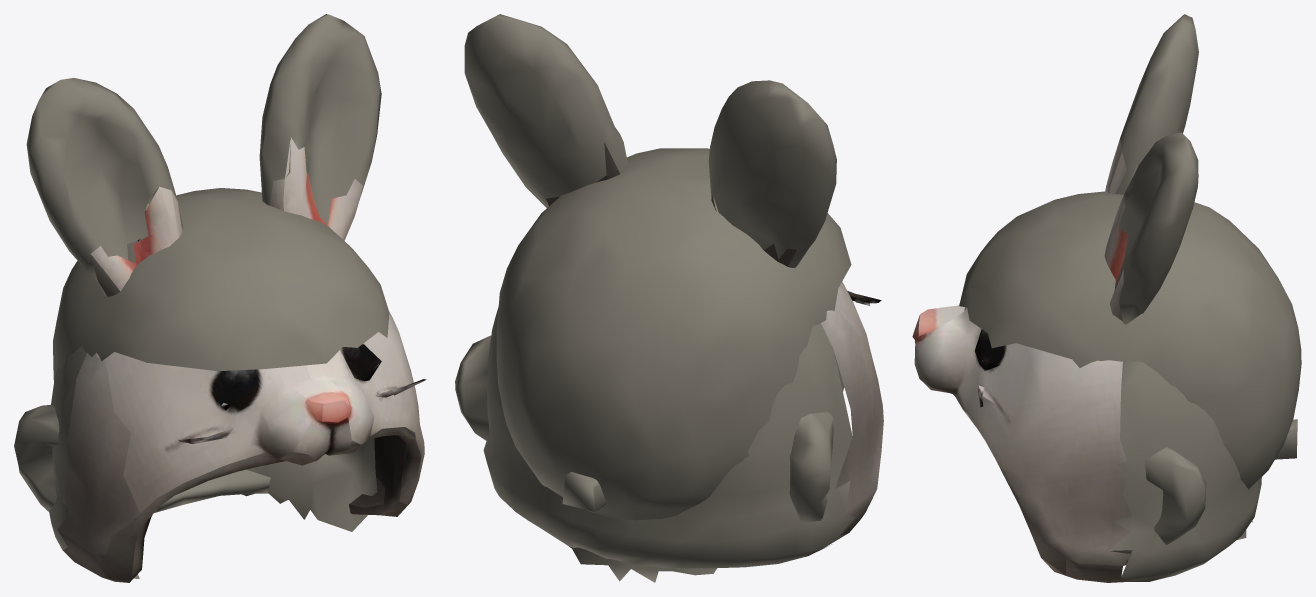
Rendered from rabbit.glb.
3 renders of one model, left to right at view 1: azimuth 30°, elevation 25°; view 2: azimuth 150°, elevation 25°; view 3: azimuth 270°, elevation 25°, orthographic. The views are drawn at different scales.
Parts seen in each view (by area): view 1: geometry_0, HoodAnatomicalLining; view 2: HoodAnatomicalLining, geometry_0; view 3: geometry_0, HoodAnatomicalLining.
Boxes of the visible parts, x1=… form: geometry_0: x1=26, y1=14, x2=426, y2=582; HoodAnatomicalLining: x1=14, y1=188, x2=389, y2=578; HoodAnatomicalLining: x1=455, y1=148, x2=851, y2=582; geometry_0: x1=464, y1=14, x2=883, y2=568; geometry_0: x1=912, y1=14, x2=1297, y2=582; HoodAnatomicalLining: x1=959, y1=191, x2=1301, y2=565.
Bounding box in the file's own units: 0.4602 × 0.5885 × 0.456.
2 materials, 1 textured.
